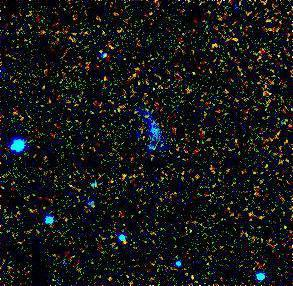star: (176, 264, 206, 286)
